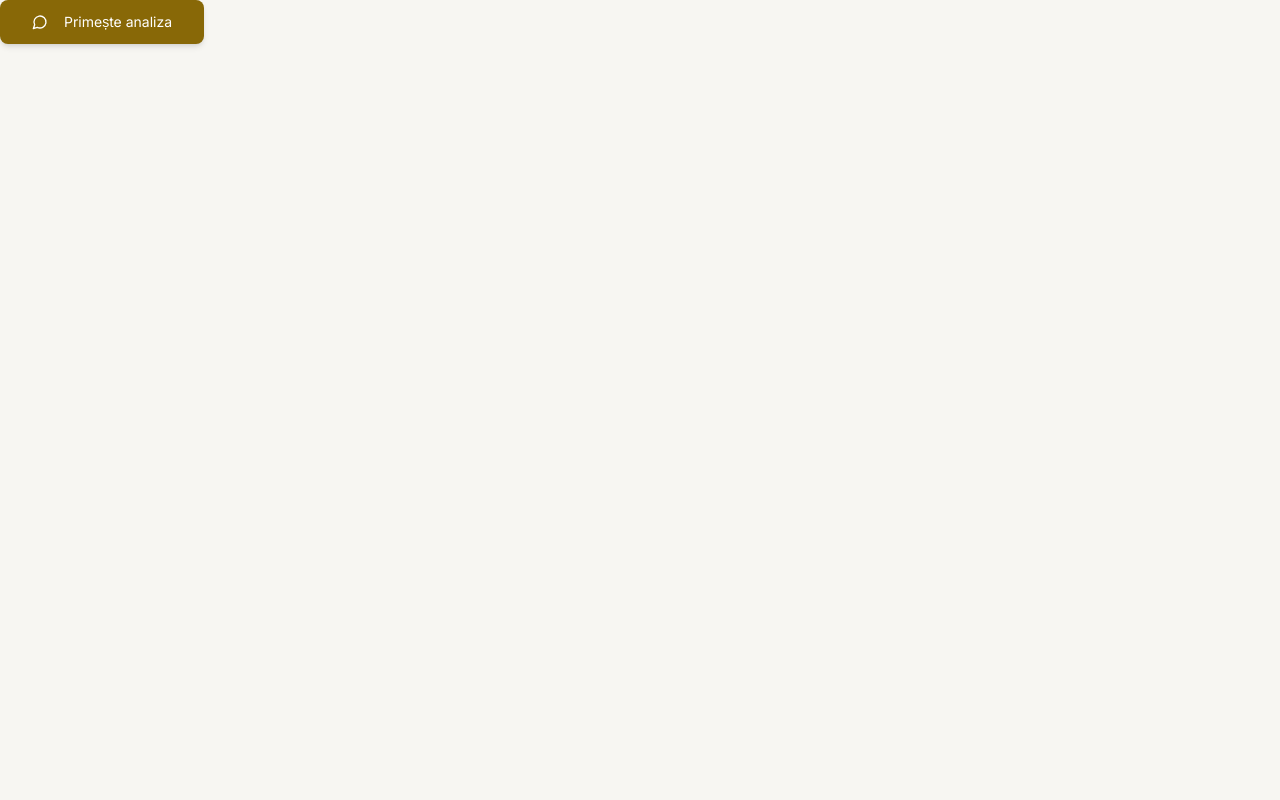
Test case: CalculatorLeadForm › saves once and sends the same lead id to the shared WhatsApp endpoint
Click the button "Primește analiza" at coordinates (102, 22), box [0,0,204,44]
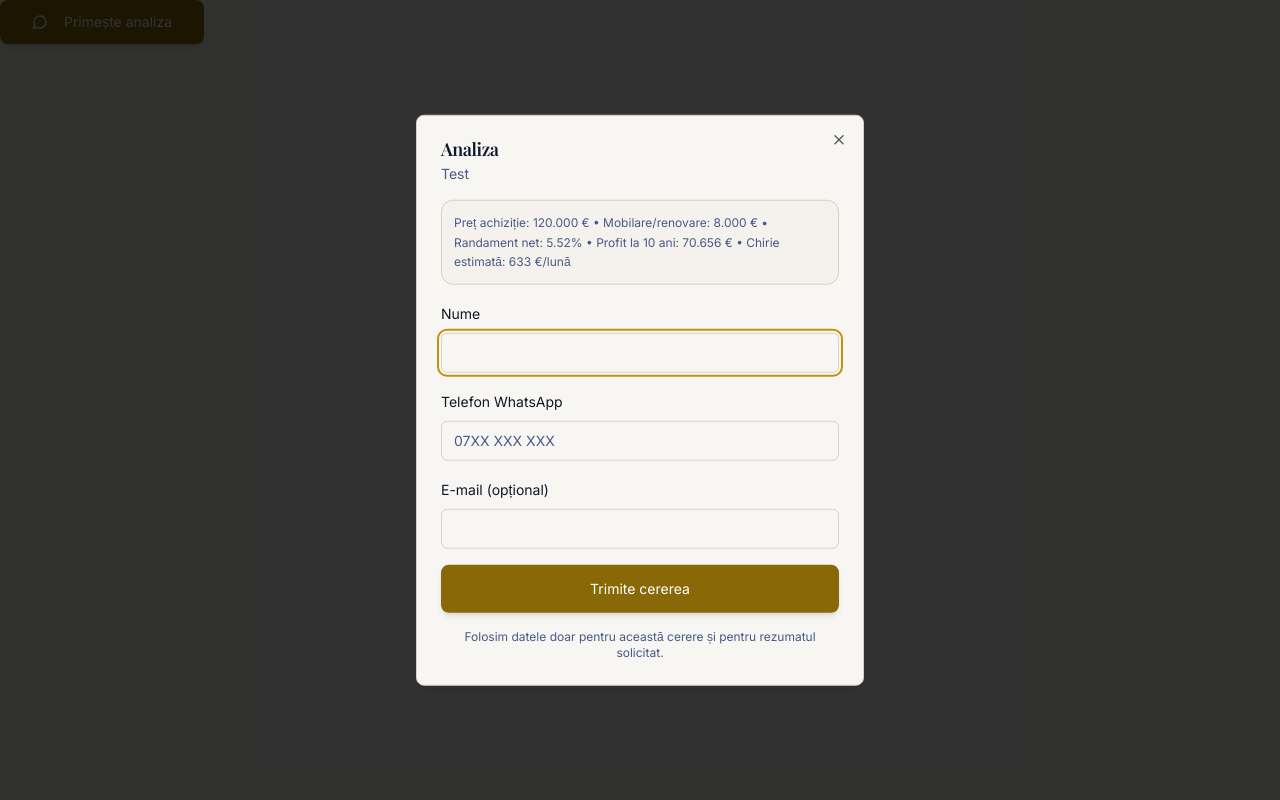
Type "Test Investitor" into the field labelled "Nume" at coordinates (640, 352), box [441,332,839,372]
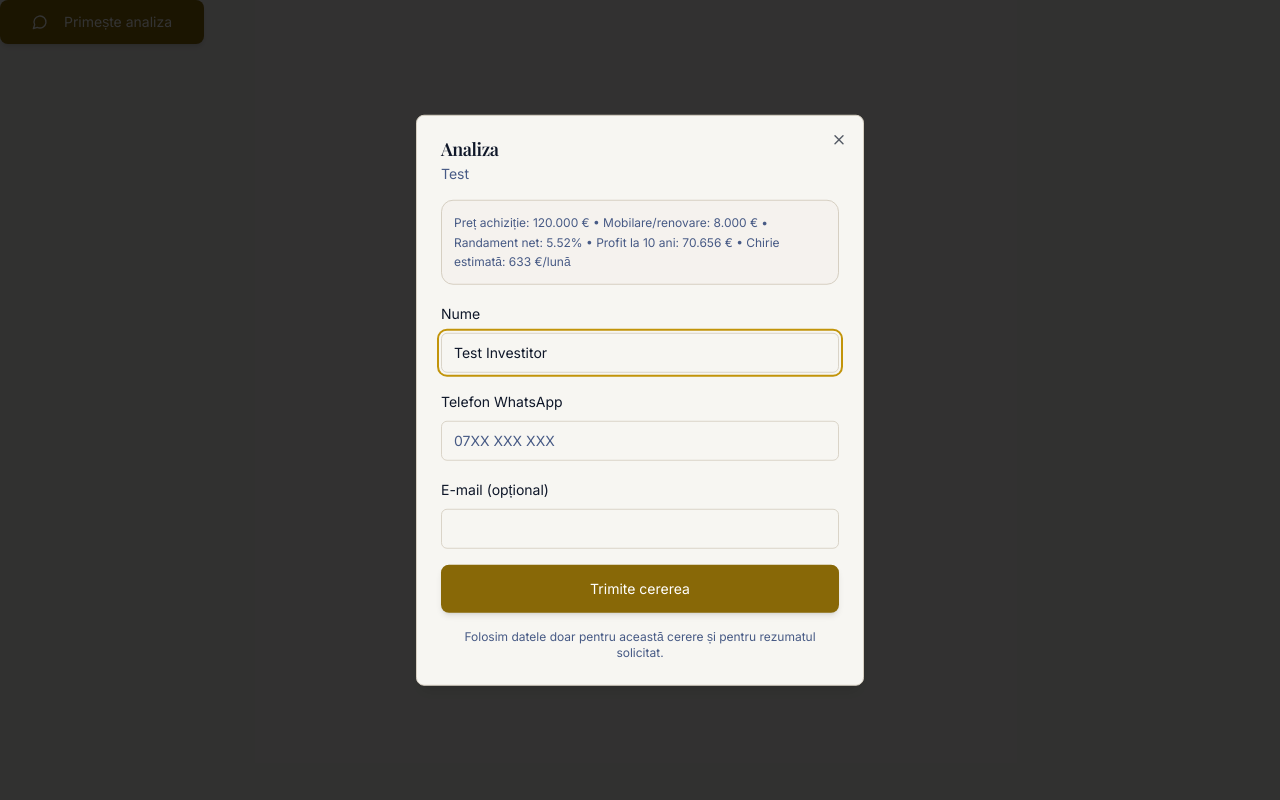
Type "0723 154 520" into the field labelled "Telefon WhatsApp" at coordinates (640, 440), box [441,420,839,460]
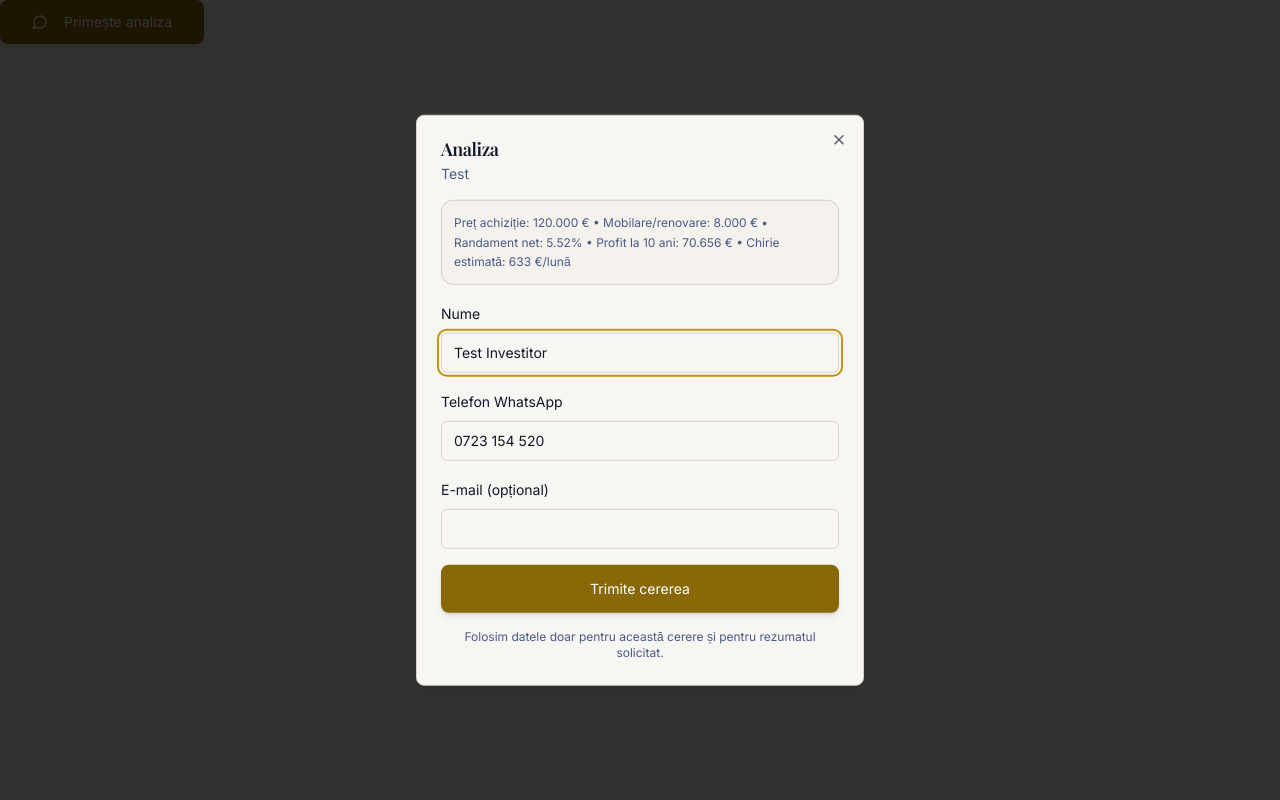
Submit the form named "Nume", box [441,200,839,660]
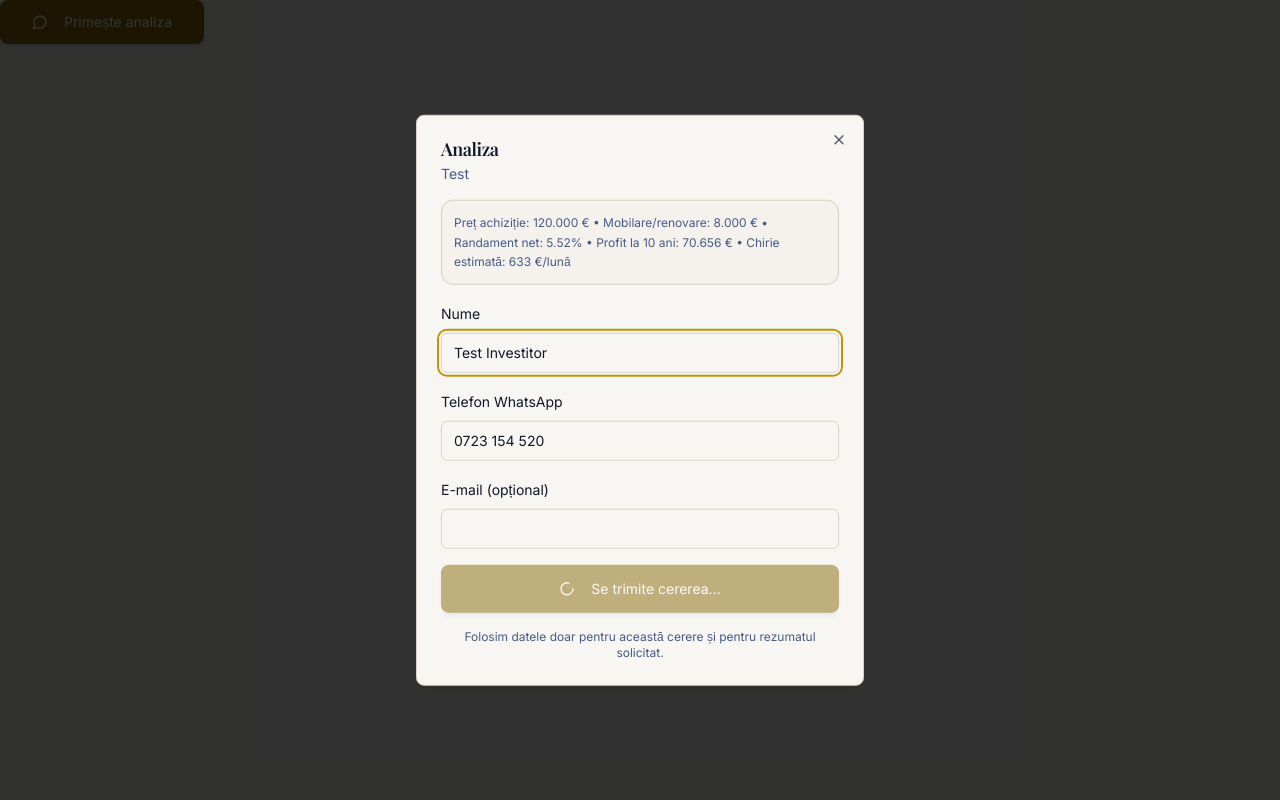
Submit the form named "Nume", box [441,200,839,660]
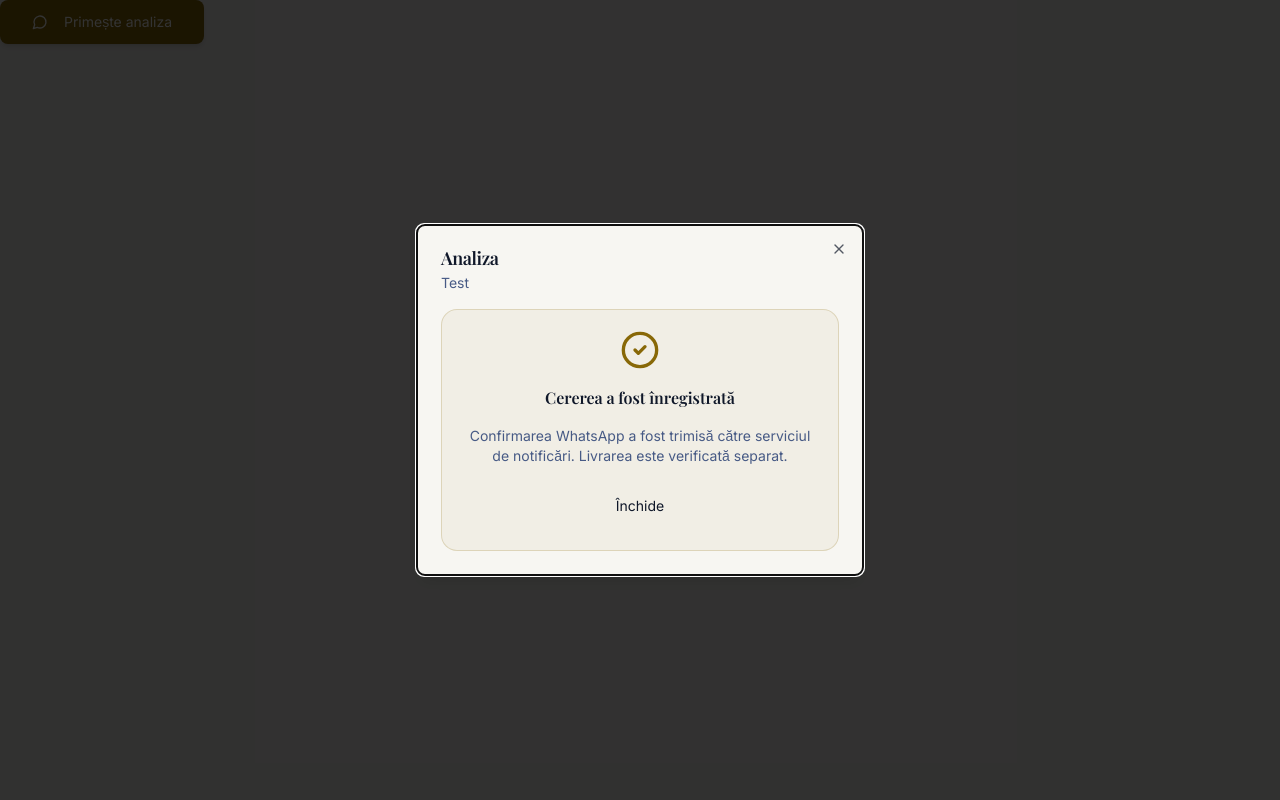
Now the text "Confirmarea WhatsApp a fost trimisă" is shown, box [470,427,810,464]
